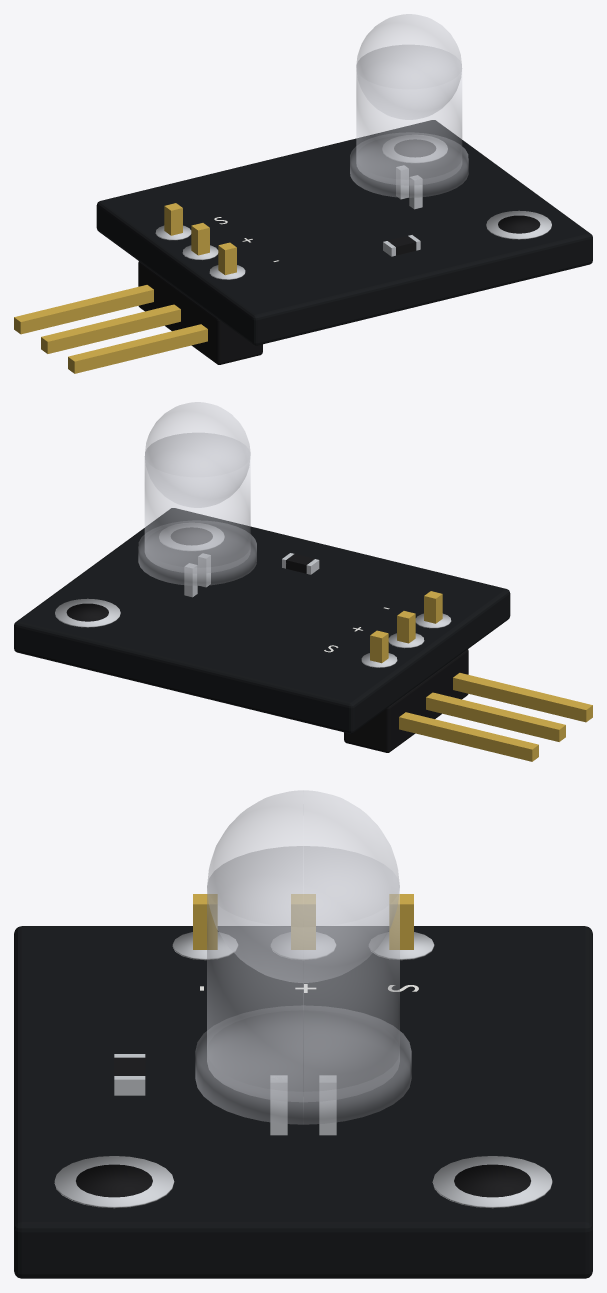
Rendered from 7-color-flash-led.glb.
The picture shows the model from 3 angles, top to bottom: view 1: azimuth 30°, elevation 25°; view 2: azimuth 150°, elevation 25°; view 3: azimuth 270°, elevation 25°; orthographic projection. The views are drawn at different scales.
Visible parts, largest first — view 1: pcb.036, led_body.010, led_dome.011, led_rim.010, header.036, pin_h.124, pin_h.125, pin_h.123, hole_ring.066, hole_ring.065, hole.066, hole.065 (+3 smaller); view 2: pcb.036, led_body.010, led_dome.011, led_rim.010, header.036, pin_h.124, pin_h.123, pin_h.125, hole_ring.065, hole_ring.066, hole.065, hole.066 (+3 smaller); view 3: pcb.036, led_body.010, led_dome.011, led_rim.010, hole_ring.065, hole_ring.066, hole.065, hole.066, pin_v.123, pin_v.124, pin_v.125, leg.031 (+5 smaller).
Boxes of the visible parts, x1,y1,x2,y2 form: pcb.036: (96, 120, 592, 345); led_body.010: (356, 45, 461, 185); led_dome.011: (356, 14, 461, 119); led_rim.010: (350, 132, 468, 197); header.036: (138, 261, 262, 364); pin_h.124: (41, 304, 180, 353); pin_h.125: (68, 324, 207, 373); pin_h.123: (14, 285, 153, 334); hole_ring.066: (486, 210, 551, 239); hole_ring.065: (382, 135, 447, 162); hole.066: (498, 215, 540, 233); hole.065: (394, 139, 435, 157); pcb.036: (14, 508, 510, 733); led_body.010: (145, 433, 250, 573); led_dome.011: (145, 402, 250, 507); led_rim.010: (138, 520, 256, 585); header.036: (344, 649, 468, 752); pin_h.124: (426, 692, 565, 741); pin_h.123: (399, 712, 538, 761); pin_h.125: (453, 673, 592, 722); hole_ring.065: (55, 598, 120, 627); hole_ring.066: (159, 523, 224, 550); hole.065: (66, 603, 108, 621); hole.066: (171, 527, 212, 545); pcb.036: (14, 926, 592, 1278); led_body.010: (207, 846, 399, 1101); led_dome.011: (207, 790, 399, 982); led_rim.010: (195, 1005, 411, 1124); hole_ring.065: (432, 1156, 552, 1208); hole_ring.066: (54, 1156, 174, 1208); hole.065: (454, 1164, 530, 1197); hole.066: (76, 1164, 152, 1197); pin_v.123: (389, 894, 413, 949); pin_v.124: (291, 894, 315, 949); pin_v.125: (193, 894, 217, 949); leg.031: (319, 1075, 336, 1135).
Size of the model in its own units: 0.0256 by 0.0136 by 0.015.
